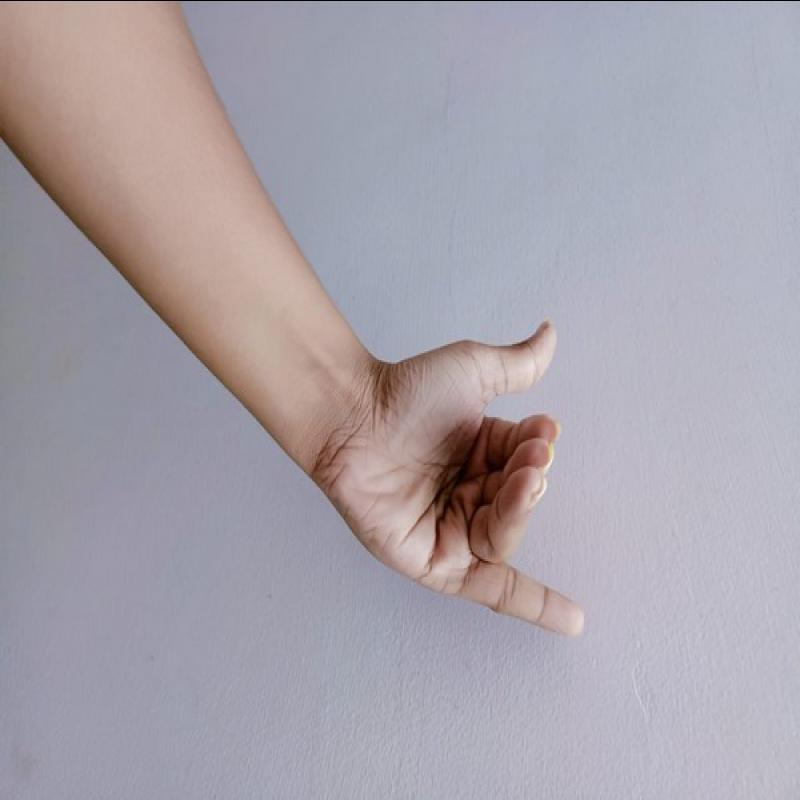Kartharee Mukham: (304, 301, 616, 662)
